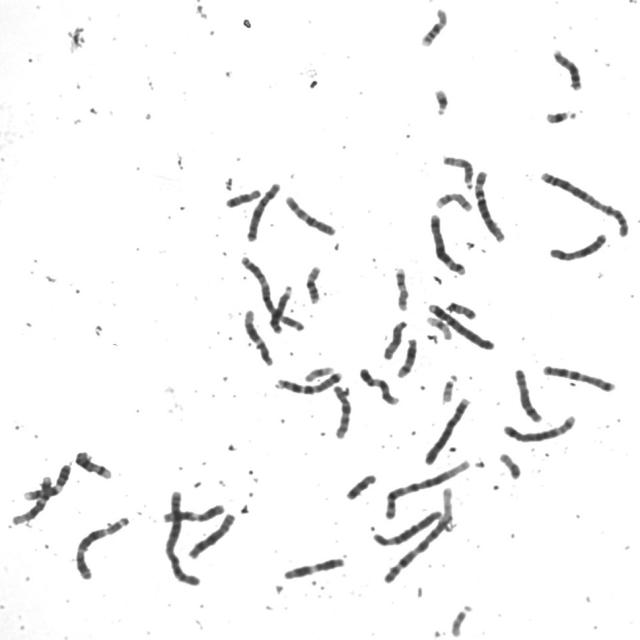A1: (381, 456, 474, 520), (379, 508, 450, 585)
A2: (536, 165, 632, 238), (160, 485, 203, 588)
A3: (236, 251, 306, 333), (71, 510, 132, 581)
B4: (421, 392, 474, 467), (423, 299, 497, 351)
B5: (426, 210, 469, 276), (499, 411, 579, 444)
C10: (281, 190, 339, 237), (329, 379, 354, 441)
C11: (280, 552, 347, 581), (160, 500, 227, 524)
C12: (8, 472, 53, 526), (240, 305, 275, 367)
C6: (369, 506, 445, 548), (471, 165, 508, 243)
C7: (539, 360, 618, 392), (272, 366, 345, 396)
C8: (184, 508, 237, 560), (511, 364, 545, 424)
C9: (20, 459, 74, 501), (356, 364, 402, 406)
D13: (548, 47, 589, 94), (266, 280, 295, 334)
D14: (71, 447, 115, 480), (394, 333, 421, 379)
D15: (439, 151, 477, 191), (379, 315, 410, 361)
E16: (417, 2, 450, 48), (302, 260, 324, 304)
E17: (391, 262, 412, 313), (432, 188, 475, 212)
E18: (343, 469, 379, 501), (222, 183, 263, 209)
F19: (423, 312, 454, 342), (301, 361, 336, 384)
F20: (442, 296, 479, 321), (496, 448, 524, 480)
G21: (541, 104, 580, 125), (430, 83, 452, 117)
G22: (448, 600, 475, 638), (438, 370, 461, 404)
X: (243, 177, 283, 243), (546, 228, 610, 262)
